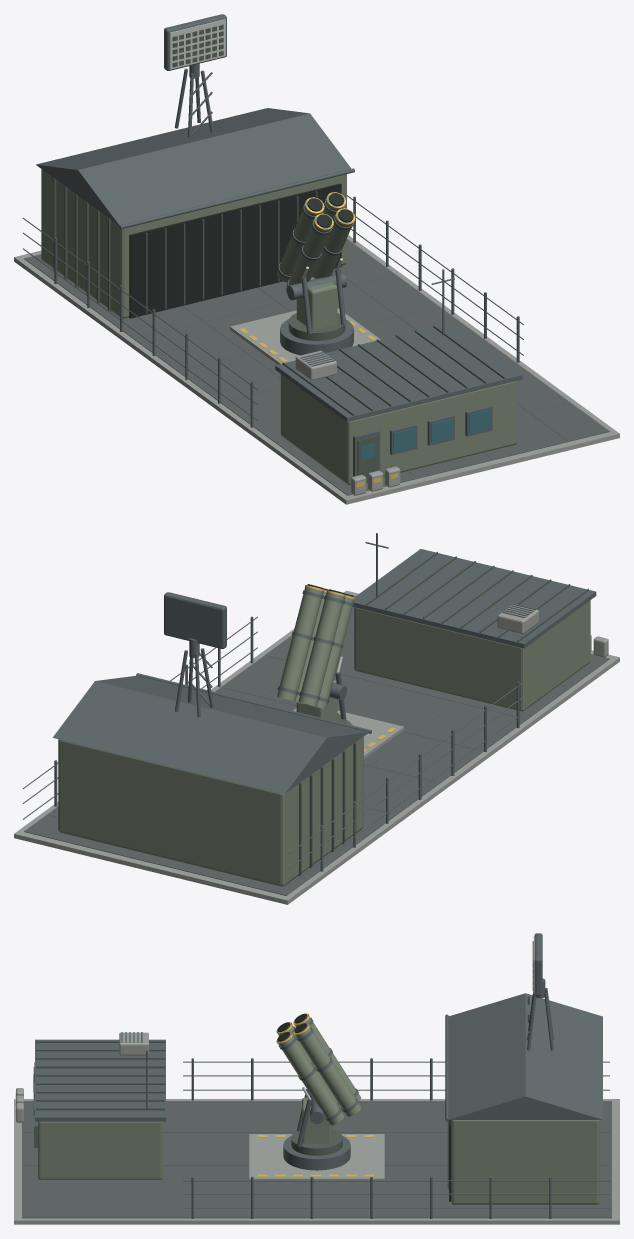
Rendered from military_2x4.glb.
The picture shows the model from 3 angles, top to bottom: view 1: azimuth 30°, elevation 25°; view 2: azimuth 150°, elevation 25°; view 3: azimuth 270°, elevation 25°; orthographic projection. The views are drawn at different scales.
Visible parts, largest first — view 1: military_2x4_foundation; view 2: military_2x4_foundation; view 3: military_2x4_foundation.
Part boxes in pixels (x1,y1,x2,y2): military_2x4_foundation: (14,14,619,504); military_2x4_foundation: (14,533,619,904); military_2x4_foundation: (14,933,619,1224).
Bounding box in the file's own units: 14.5 × 12.1 × 30.5.
